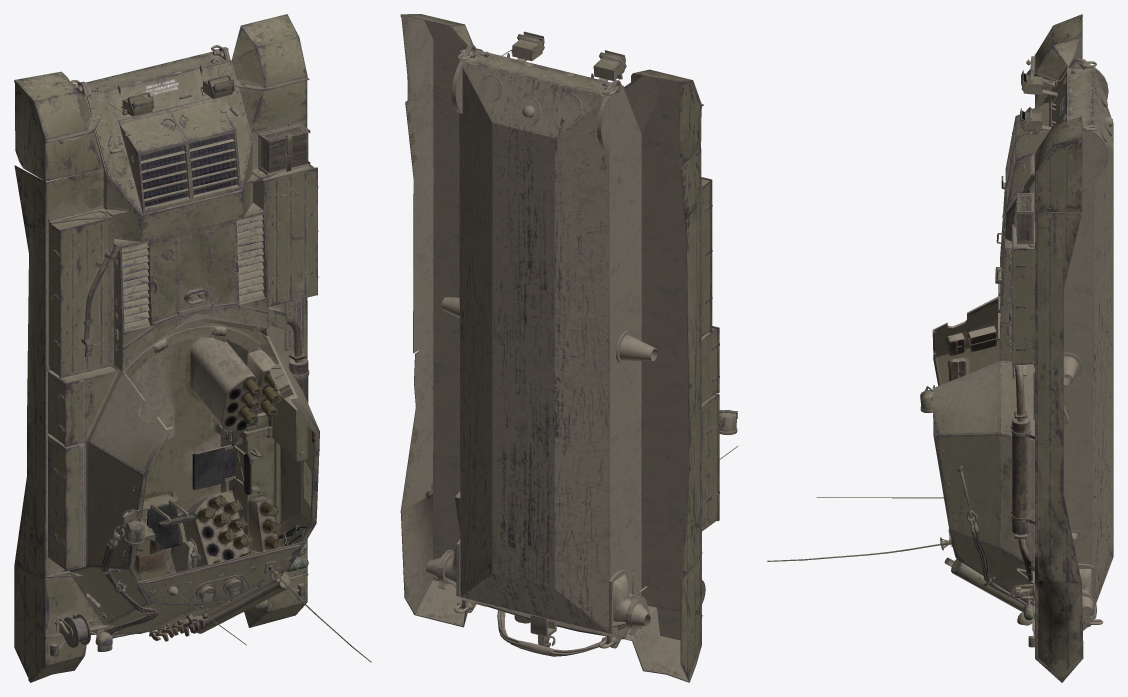
Rendered from Hull.glb.
3 views of the same model, side by side, from view 1: azimuth 30°, elevation 25°; view 2: azimuth 150°, elevation 25°; view 3: azimuth 270°, elevation 25° (orthographic). The views are drawn at different scales.
Visible parts, largest first — view 1: set_0_group_0; view 2: set_0_group_0; view 3: set_0_group_0.
Boxes of the visible parts, bbox=[...] form: set_0_group_0: bbox=[14, 14, 371, 682]; set_0_group_0: bbox=[400, 14, 737, 682]; set_0_group_0: bbox=[767, 14, 1113, 682].
Size of the model in its own units: 2.76 by 5.73 by 3.28.
Materials: 1 (1 with a texture image).
